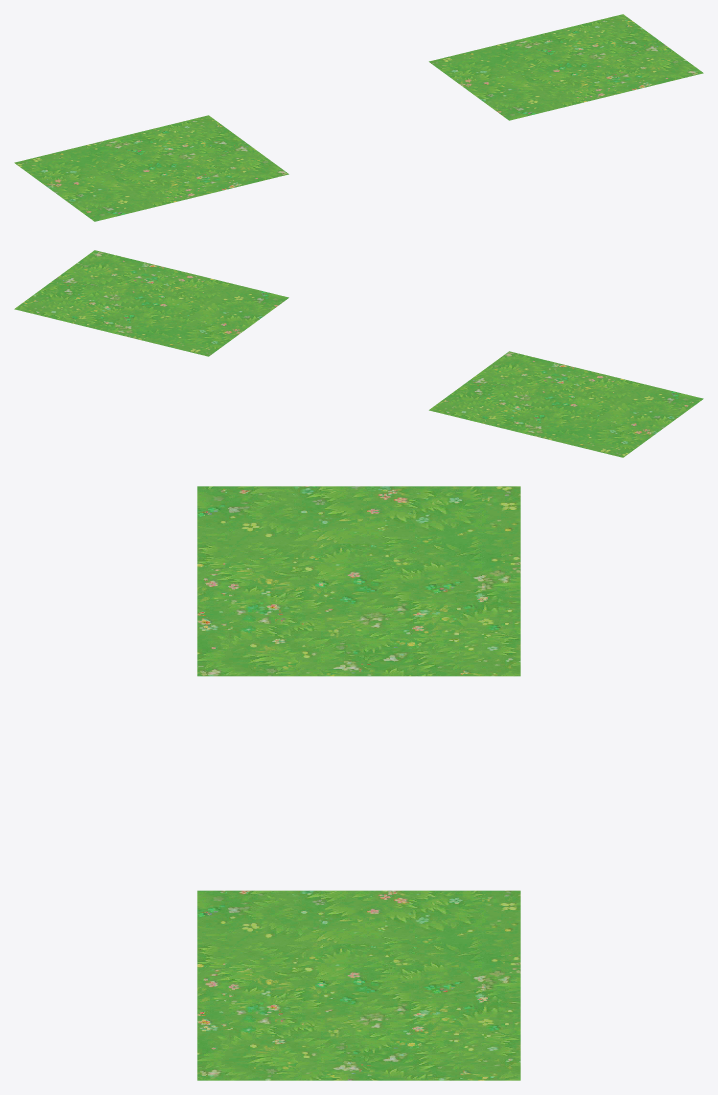
File: zhucheng_wangcheng04.FBX
3 renders of one model, top to bottom at view 1: azimuth 30°, elevation 25°; view 2: azimuth 150°, elevation 25°; view 3: azimuth 270°, elevation 25°, orthographic. The views are drawn at different scales.
Parts seen in each view (by area): view 1: zhucheng_wangcheng04; view 2: zhucheng_wangcheng04; view 3: zhucheng_wangcheng04.
Boxes of the visible parts, bbox=[...] form: zhucheng_wangcheng04: bbox=[14, 14, 703, 221]; zhucheng_wangcheng04: bbox=[14, 250, 703, 457]; zhucheng_wangcheng04: bbox=[197, 486, 520, 1080].
Size of the model in its own units: 2025 by 0 by 465.
